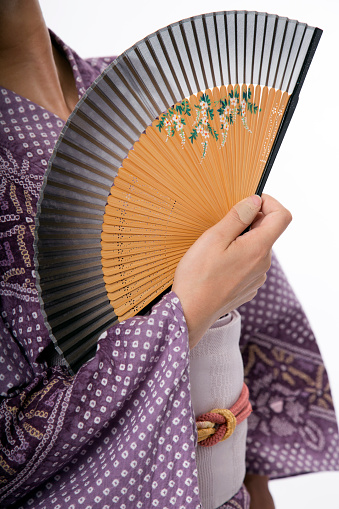em pe: (0, 0, 238, 509)
